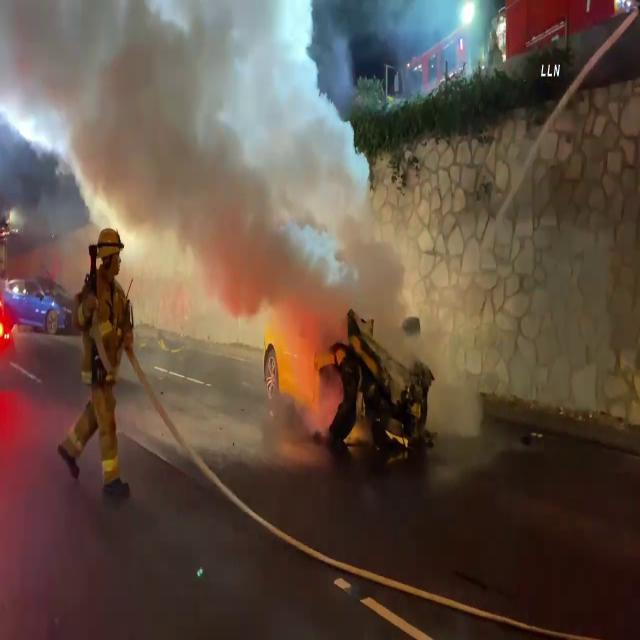Smoke: (0, 0, 400, 304)
